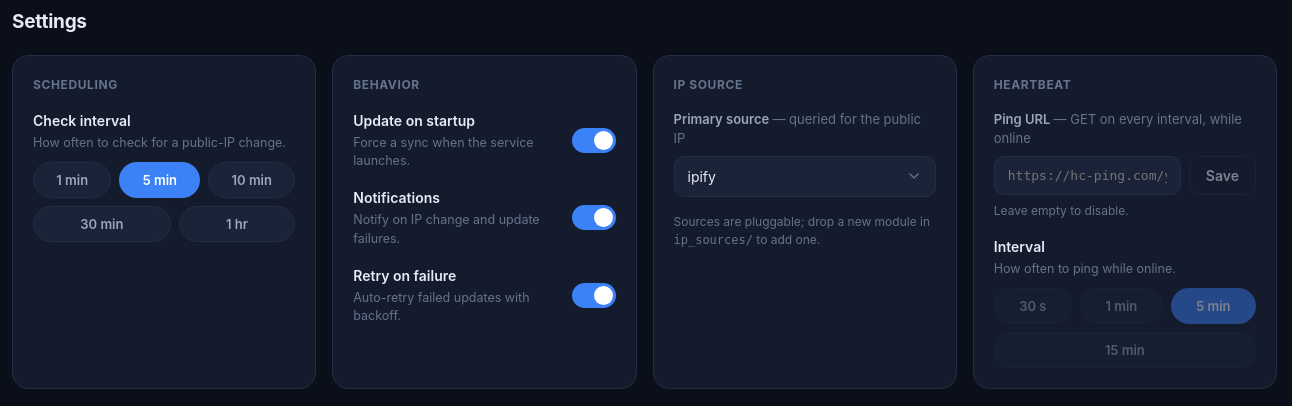
Test case: SettingsView › shows the field error inline until the draft changes
Type "hc-ping.com/x" into the field labelled "Ping URL — GET on every interval, while online". click: point(1087, 175)
box: [994,156,1181,194]
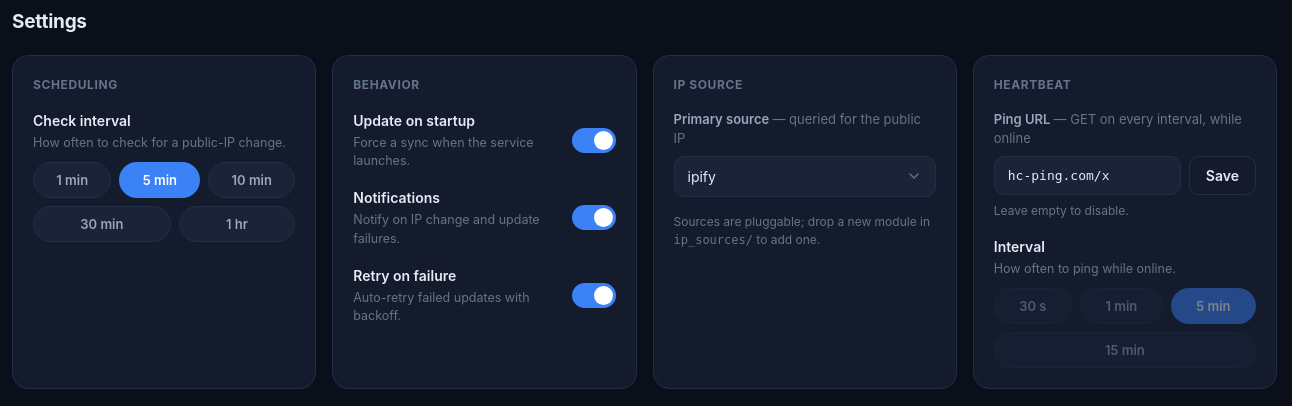
Click the button "Save". click: point(1222, 175)
box: [1189,156,1256,194]
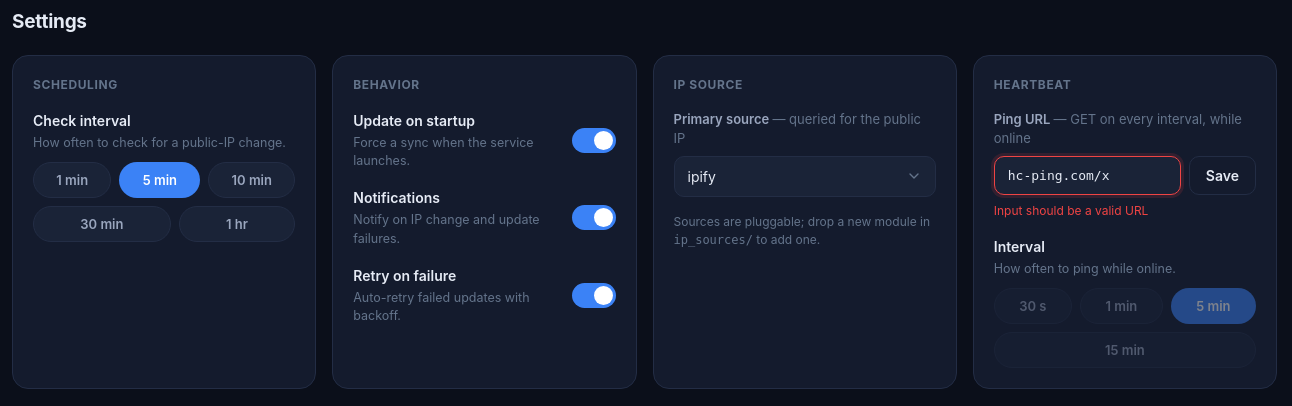
Check: the text "Input should be a valid URL" is shown, box [994,202,1148,218]
Replace the text in the field labelled "Ping URL — GET on every interval, while online" with "https://hc-ping.com/x". click: point(1087, 175)
box: [994,156,1181,194]
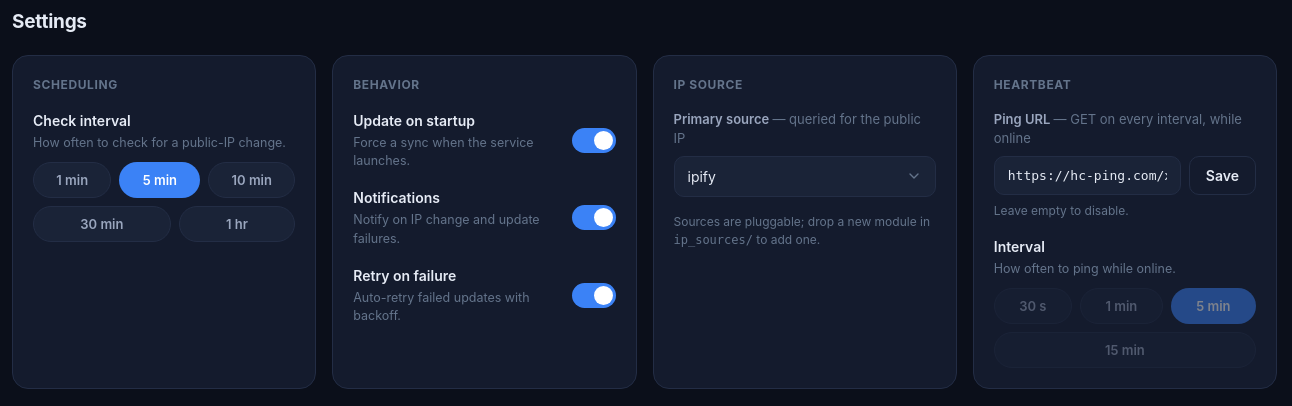
Check: the text "Input should be a valid URL" is gone
Check: the text "Leave empty to disable." is shown, box [994,202,1129,218]
